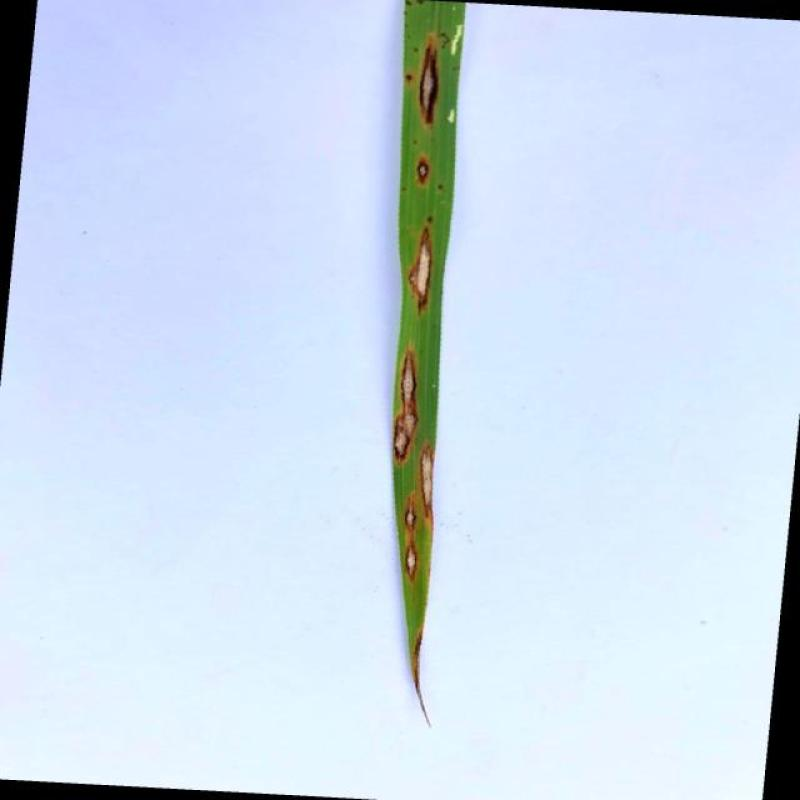Leaf_Blast: (392, 345, 420, 465), (405, 224, 435, 316), (416, 33, 440, 128), (418, 444, 434, 520), (402, 541, 420, 584), (405, 491, 419, 539), (414, 154, 432, 186)
